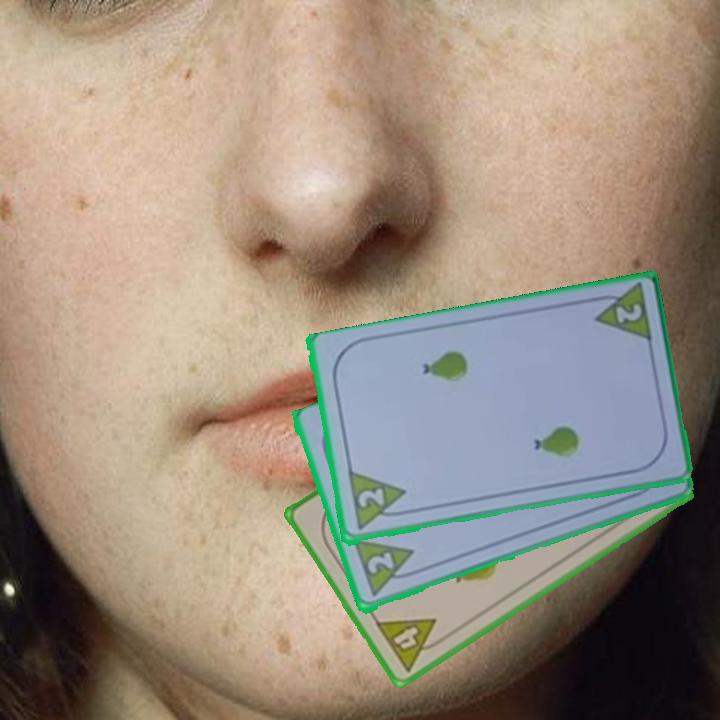2p: (350, 537, 423, 601), (586, 282, 655, 347), (354, 485, 387, 511)
4p: (371, 614, 450, 675)
